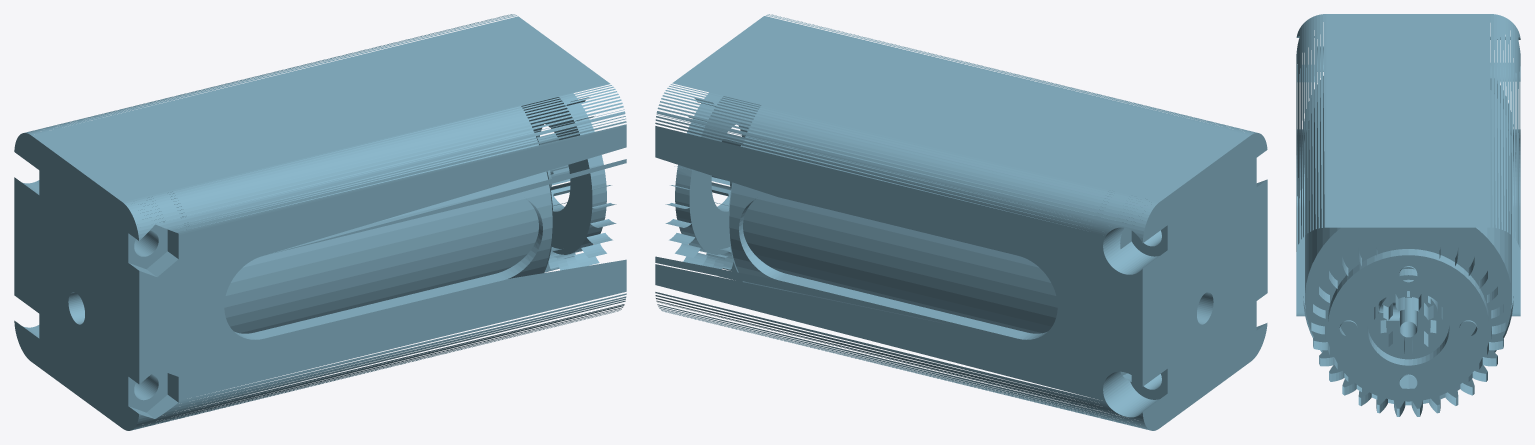
3 views of the same model, side by side, from view 1: azimuth 30°, elevation 25°; view 2: azimuth 150°, elevation 25°; view 3: azimuth 270°, elevation 25° (orthographic). The views are drawn at different scales.
Parts seen in each view (by area): view 1: 01-base; view 2: 01-base; view 3: 01-base.
Boxes of the visible parts, x1=… form: 01-base: x1=14, y1=14, x2=626, y2=430; 01-base: x1=655, y1=14, x2=1267, y2=430; 01-base: x1=1296, y1=14, x2=1520, y2=416.
Bounding box in the file's own units: 0.0676 × 0.03 × 0.03.
